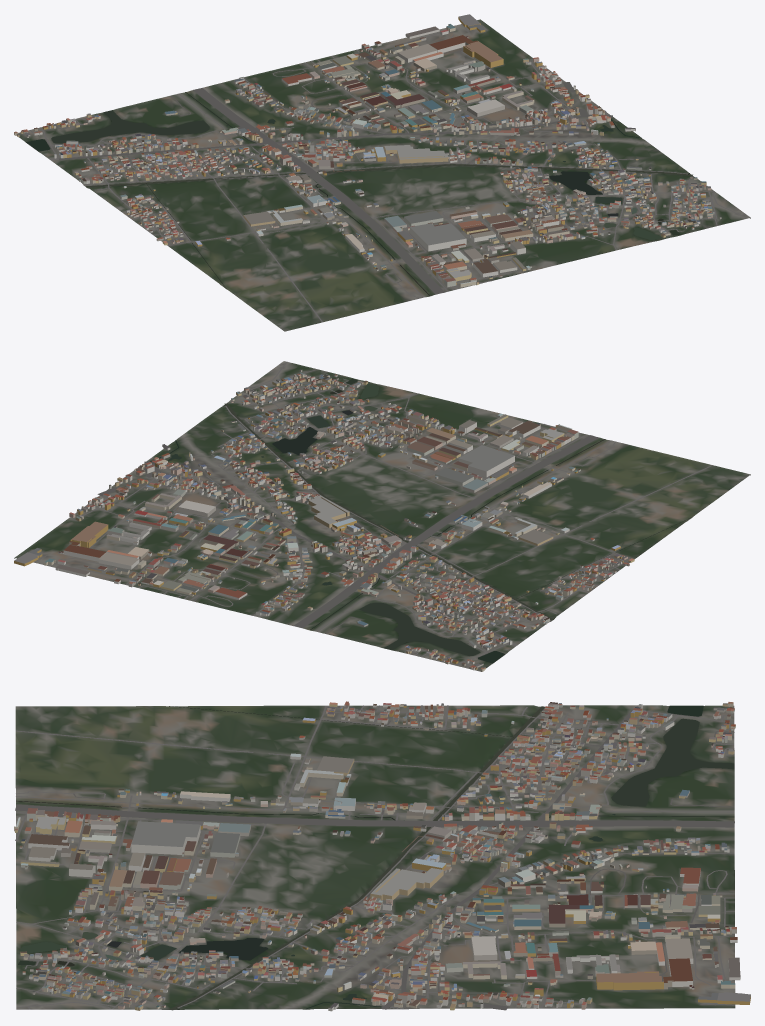
3 renders of one model, top to bottom at view 1: azimuth 30°, elevation 25°; view 2: azimuth 150°, elevation 25°; view 3: azimuth 270°, elevation 25°, orthographic. The views are drawn at different scales.
Visible parts, largest first — view 1: ground, buildings, roads, water; view 2: ground, buildings, roads, water; view 3: ground, buildings, roads, water.
Part boxes in pixels (<box>): ground: <box>18,19,750,331</box>; buildings: <box>14,14,721,287</box>; roads: <box>29,24,747,322</box>; water: <box>26,92,692,295</box>; ground: <box>14,361,750,671</box>; buildings: <box>14,369,634,671</box>; roads: <box>29,361,712,667</box>; water: <box>138,378,690,663</box>; ground: <box>15,705,735,1009</box>; buildings: <box>14,701,750,1011</box>; roads: <box>15,705,735,1010</box>; water: <box>16,705,734,1010</box>.
Size of the model in its own units: 1418 by 26.87 by 1437.
